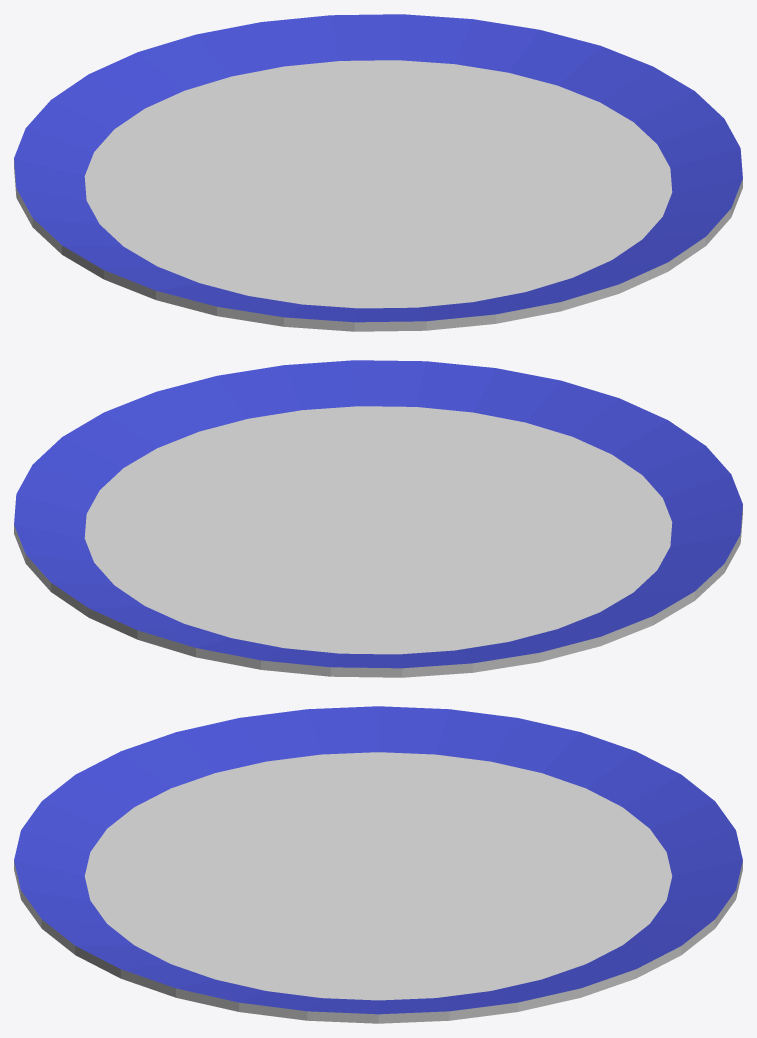
Rendered from plate.fbx.
The picture shows the model from 3 angles, top to bottom: view 1: azimuth 30°, elevation 25°; view 2: azimuth 150°, elevation 25°; view 3: azimuth 270°, elevation 25°; orthographic projection.
Visible parts, largest first — view 1: Circle; view 2: Circle; view 3: Circle.
Part boxes in pixels (x1=…): Circle: x1=14, y1=14, x2=742, y2=331; Circle: x1=14, y1=360, x2=742, y2=677; Circle: x1=14, y1=706, x2=742, y2=1023.
Bounding box in the file's own units: 346 × 13.34 × 346.
